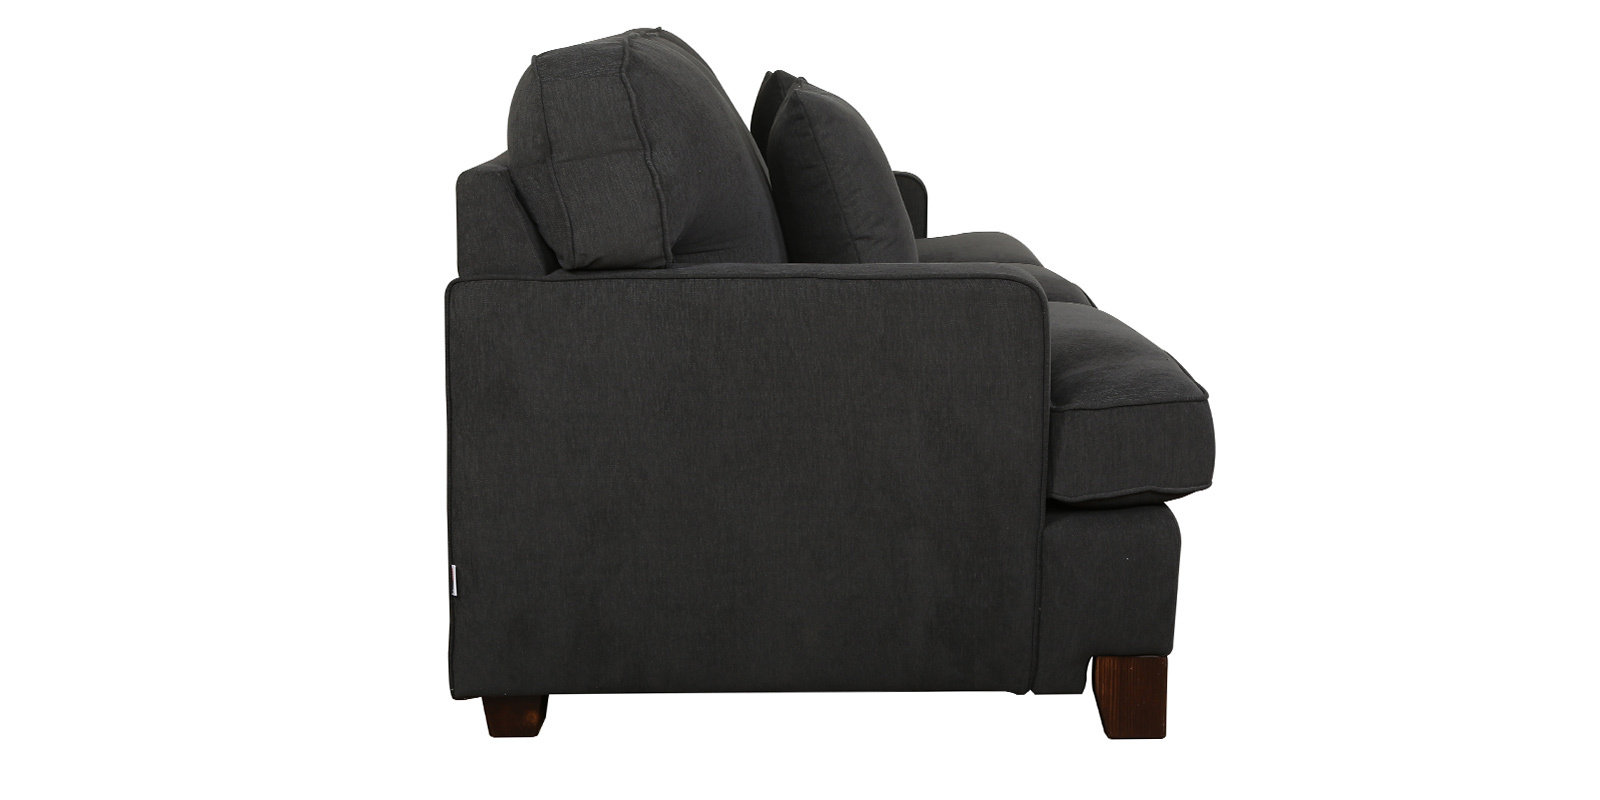Parana Three Seater Sofa in Charcoal Grey Color by CasaCraft: (443, 23, 1215, 742)
